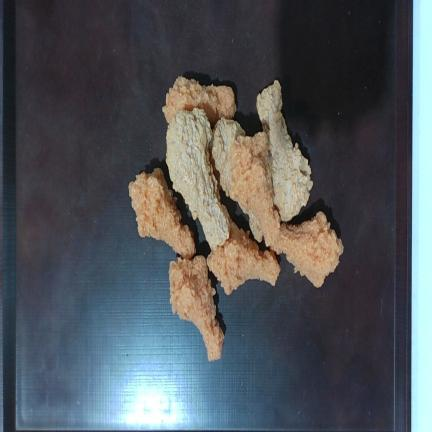chicken: (166, 108, 229, 247), (256, 80, 313, 221), (129, 168, 195, 257), (169, 256, 224, 361), (207, 216, 280, 295), (229, 137, 279, 246), (274, 212, 343, 287), (162, 76, 236, 127)
